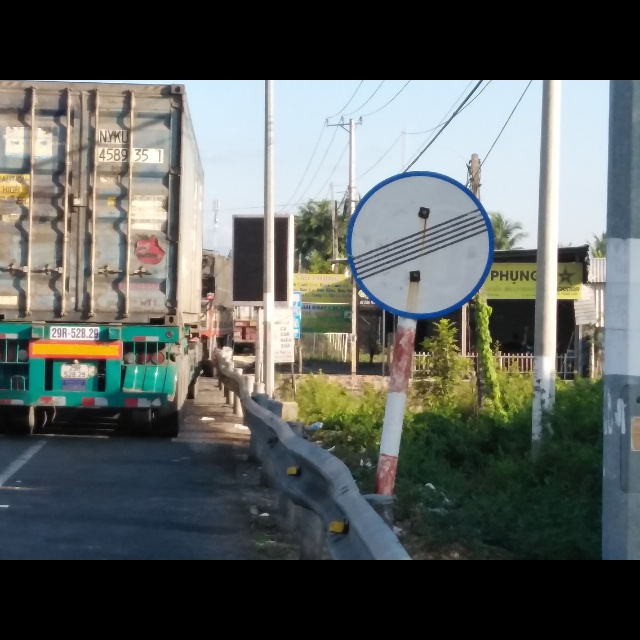Hết tất cả các lệnh cấm: (344, 169, 494, 320)
